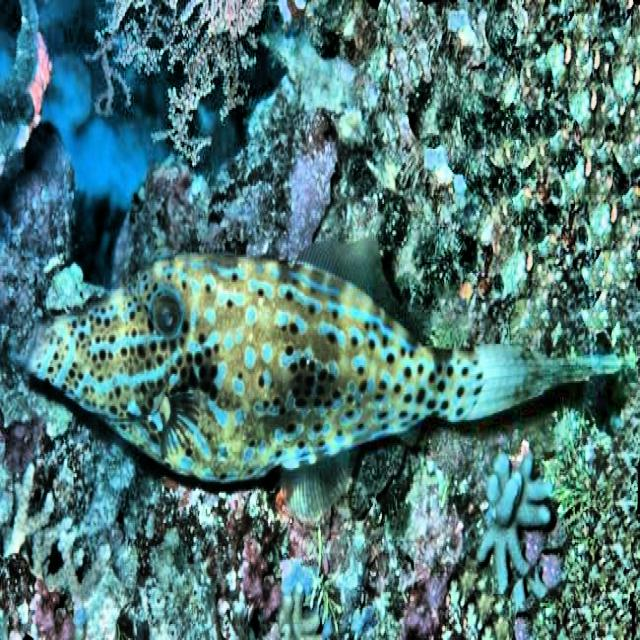fish: (14, 242, 619, 518)
